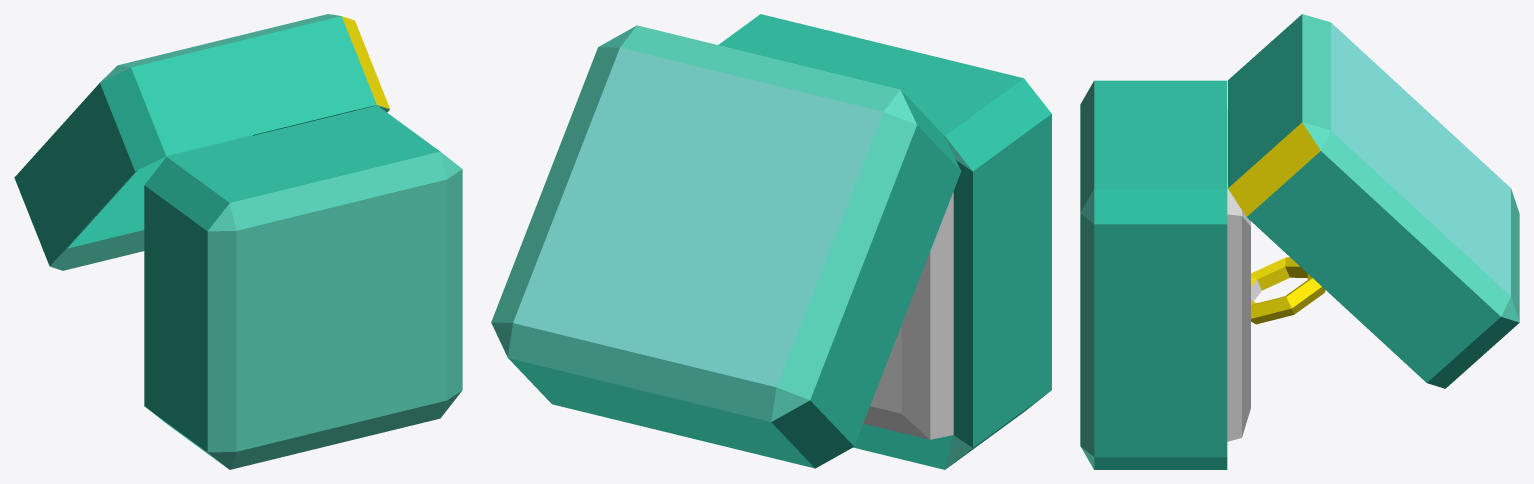
File: ring_box.fbx
3 views of the same model, side by side, from view 1: azimuth 30°, elevation 25°; view 2: azimuth 150°, elevation 25°; view 3: azimuth 270°, elevation 25° (orthographic). The views are drawn at different scales.
Visible parts, largest first — view 1: ring; view 2: ring; view 3: ring.
Part boxes in pixels (x1,y1,x2,y2): ring: (14,14,462,469); ring: (491,14,1051,469); ring: (1080,14,1519,469).
Bounding box in the file's own units: 359 × 444 × 508.
